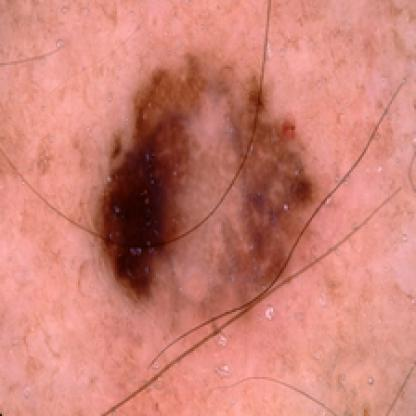malignant: (89, 45, 347, 308)
